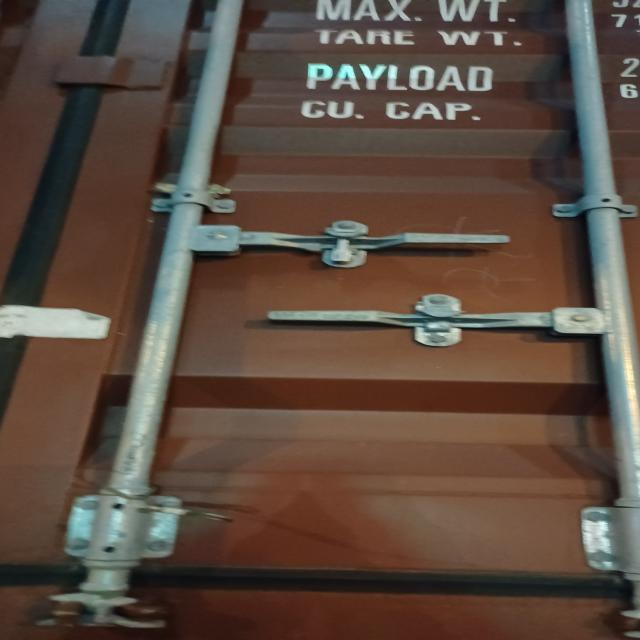seal: (312, 222, 371, 266)
